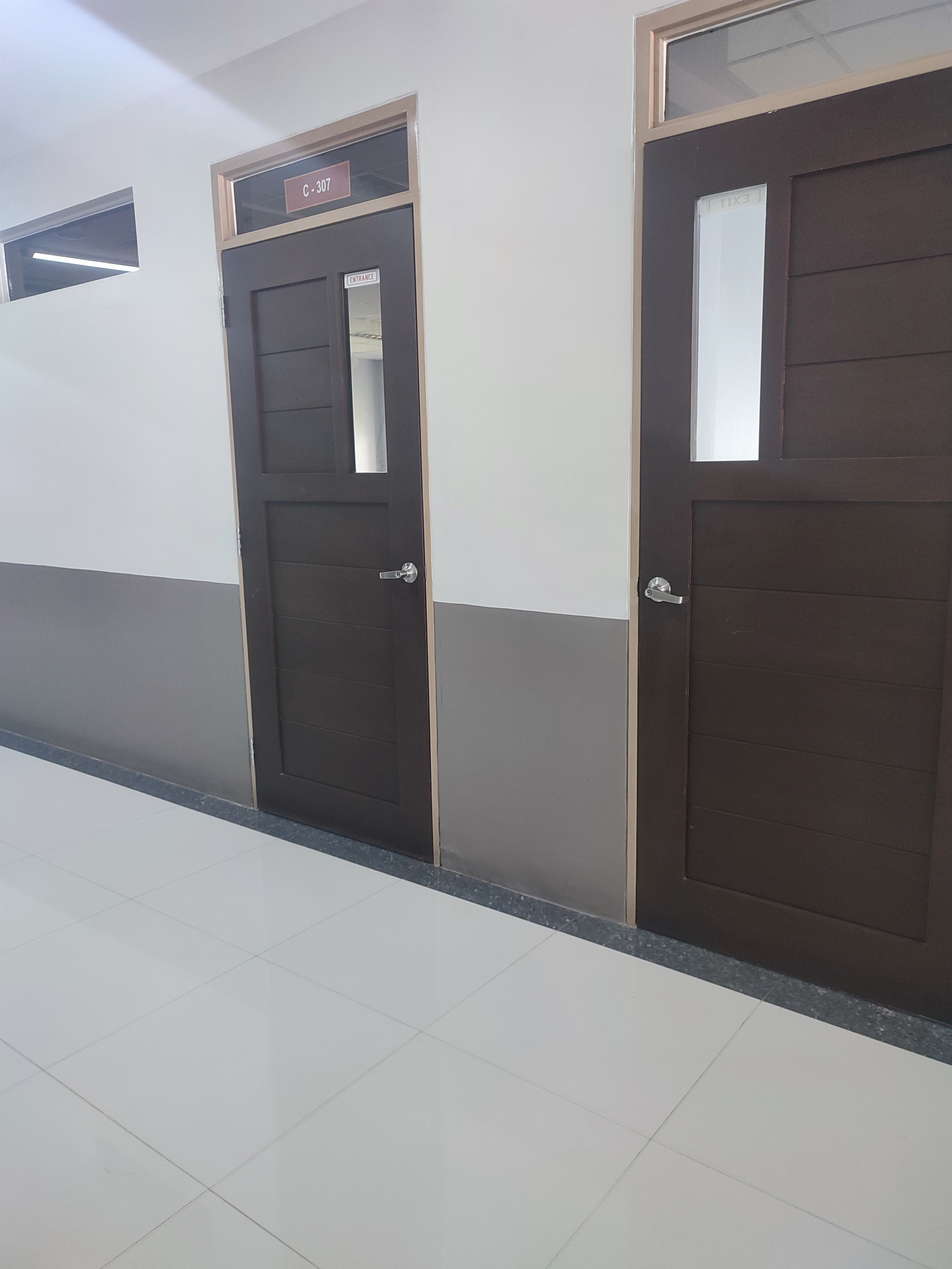door: (629, 0, 952, 1028), (209, 96, 436, 865)
